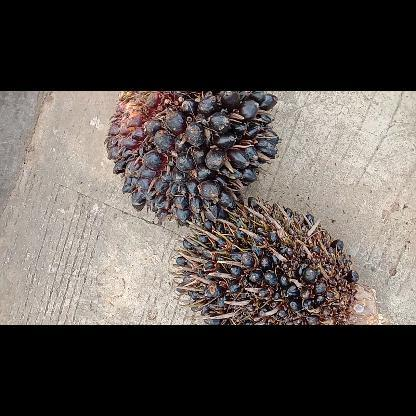TBS mentah: (169, 194, 363, 324), (102, 91, 282, 230)
